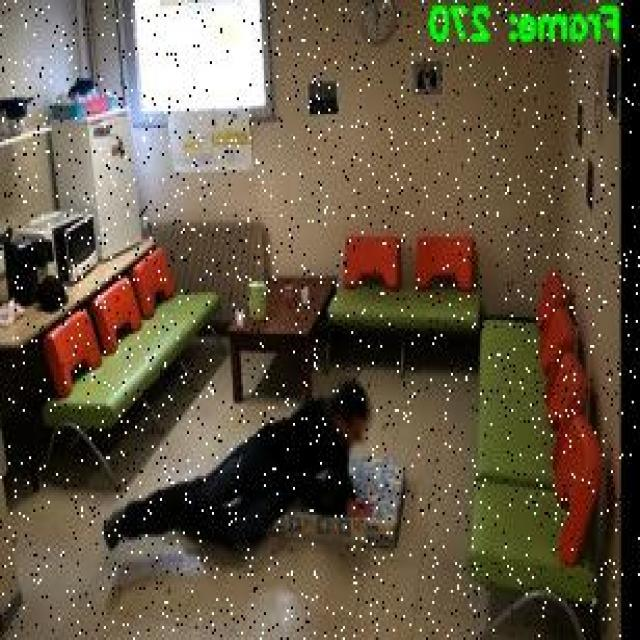fall: (97, 376, 380, 576)
